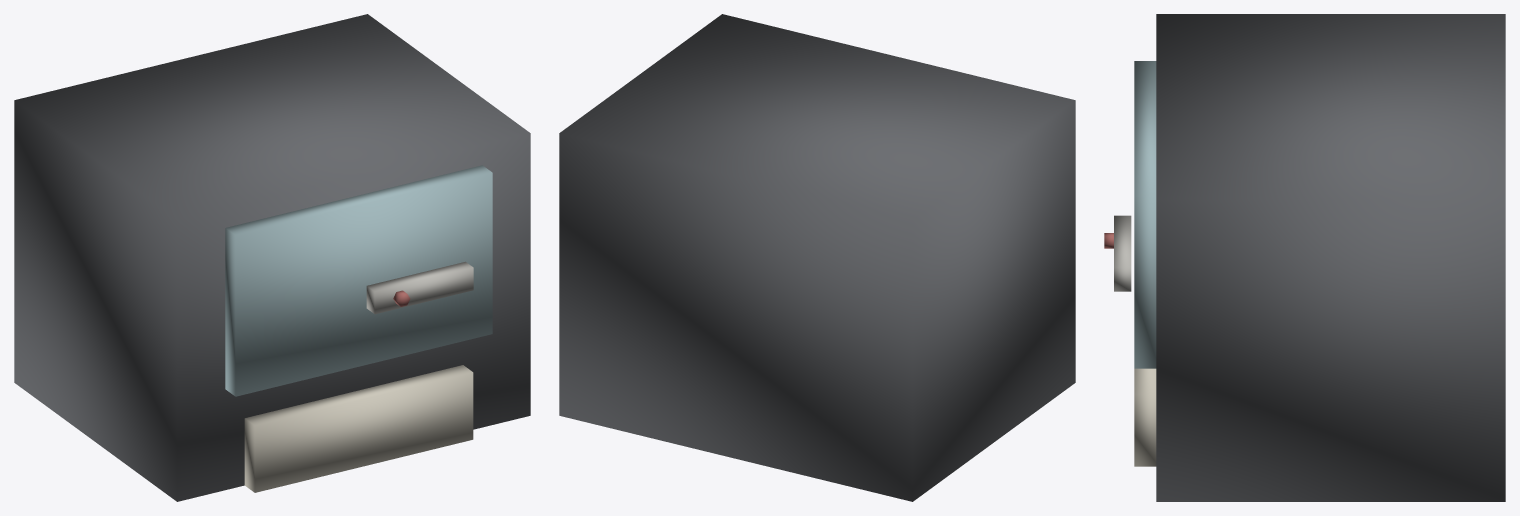
Rendered from television__deep.glb.
3 views of the same model, side by side, from view 1: azimuth 30°, elevation 25°; view 2: azimuth 150°, elevation 25°; view 3: azimuth 270°, elevation 25° (orthographic). The views are drawn at different scales.
Parts seen in each view (by area): view 1: world; view 2: world; view 3: world.
Boxes of the visible parts, x1,y1,x2,y2 form: world: (14, 14, 530, 501); world: (559, 14, 1075, 501); world: (1104, 14, 1505, 501).
Bounding box in the file's own units: 0.55 × 0.42 × 0.5045.
